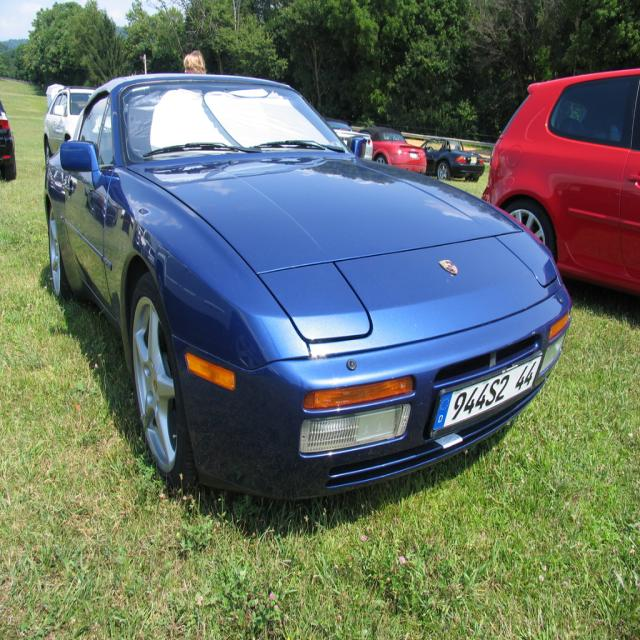car: (42, 75, 571, 498)
